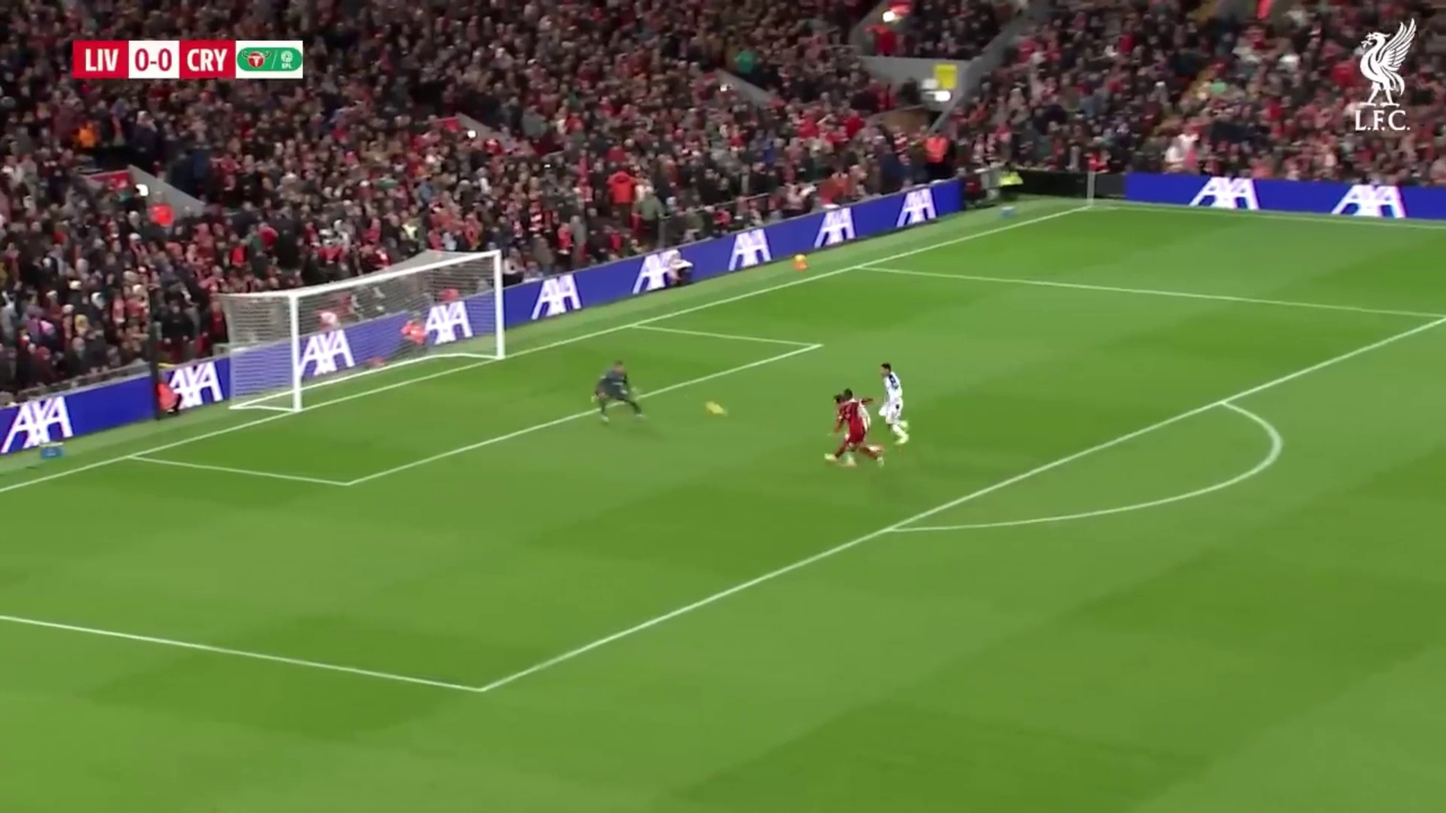player: (825, 390, 885, 466), (303, 310, 354, 380), (591, 362, 646, 422), (422, 283, 472, 349), (878, 360, 909, 443), (442, 284, 473, 346)
